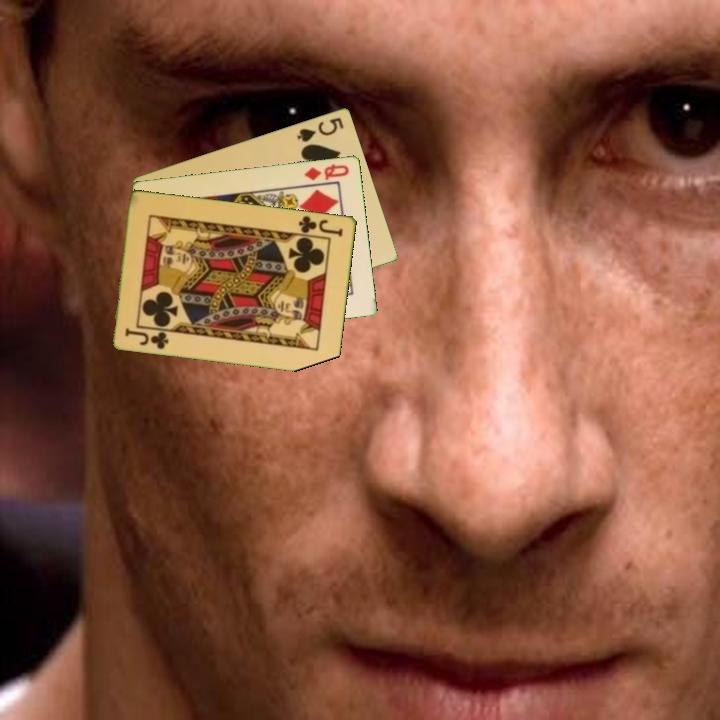5s: (294, 114, 347, 145)
Jc: (121, 324, 172, 352), (295, 212, 346, 239)
Qd: (301, 160, 352, 183)
